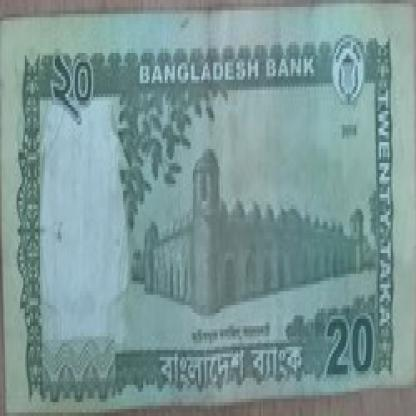Twenty: (322, 267, 379, 409), (40, 38, 105, 135)
